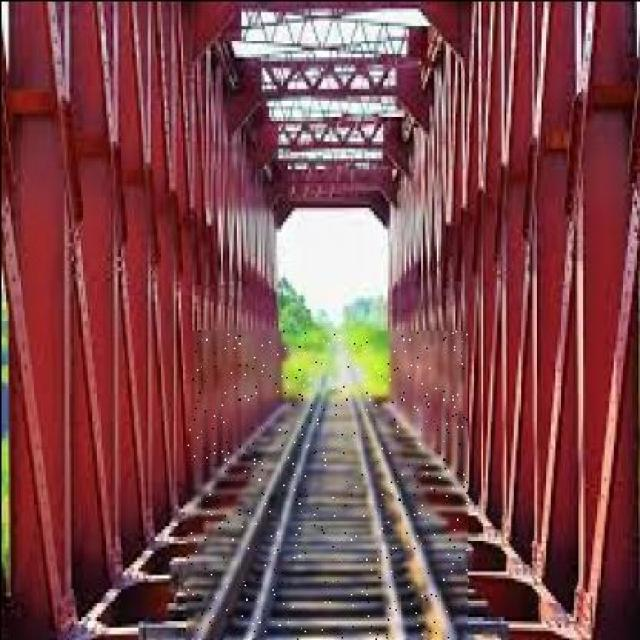rail: (187, 331, 466, 639)
